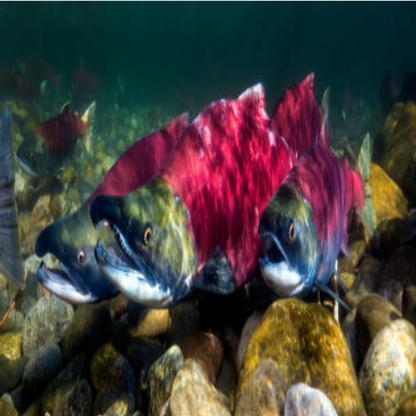sockeye: (97, 106, 290, 305), (43, 111, 187, 306), (255, 139, 375, 296)
sockeye-group: (35, 103, 376, 310)
